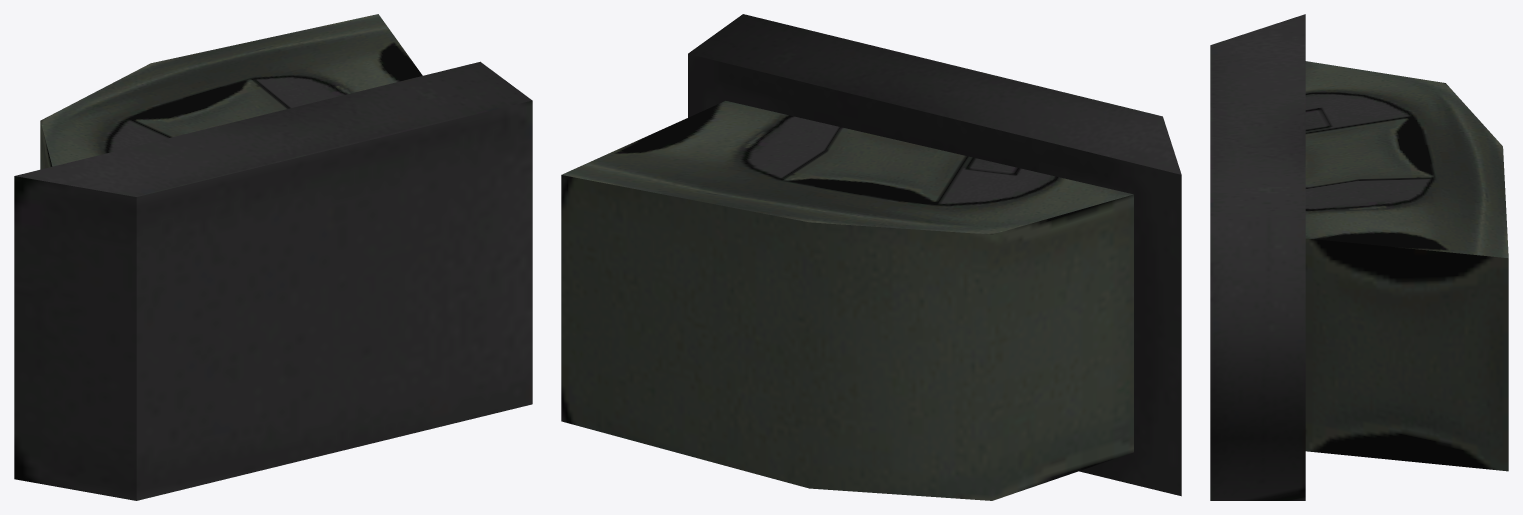
Rendered from t6_attach_pistol_fastmag_world_LOD2.obj.
3 views of the same model, side by side, from view 1: azimuth 30°, elevation 25°; view 2: azimuth 150°, elevation 25°; view 3: azimuth 270°, elevation 25° (orthographic). The views are drawn at different scales.
Parts seen in each view (by area): view 1: mtl_t6_attach_fastmag; view 2: mtl_t6_attach_fastmag; view 3: mtl_t6_attach_fastmag.
Boxes of the visible parts, x1,y1,x2,y2 form: mtl_t6_attach_fastmag: (14, 14, 532, 500); mtl_t6_attach_fastmag: (561, 14, 1181, 500); mtl_t6_attach_fastmag: (1210, 14, 1508, 500).
Size of the model in its own units: 6.71 by 4.11 by 3.99.
